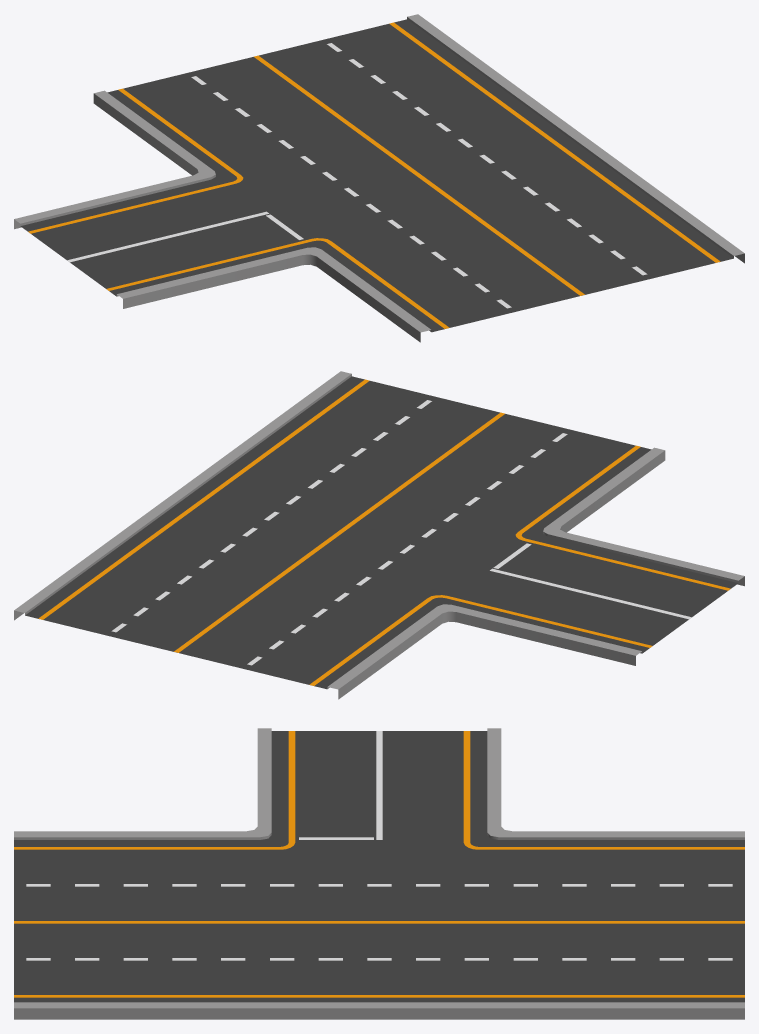
Rendered from Road_A_2L_2_4.glb.
The picture shows the model from 3 angles, top to bottom: view 1: azimuth 30°, elevation 25°; view 2: azimuth 150°, elevation 25°; view 3: azimuth 270°, elevation 25°; orthographic projection. The views are drawn at different scales.
Parts seen in each view (by area): view 1: Road_A_2L_2_4; view 2: Road_A_2L_2_4; view 3: Road_A_2L_2_4.
Boxes of the visible parts, left/top/right/bottom form: Road_A_2L_2_4: left=14, top=14, right=744, bottom=342; Road_A_2L_2_4: left=14, top=371, right=744, bottom=699; Road_A_2L_2_4: left=14, top=728, right=744, bottom=1019.
Bounding box in the file's own units: 21.75 × 0.4148 × 24.
Materials: 1 (1 with a texture image).
